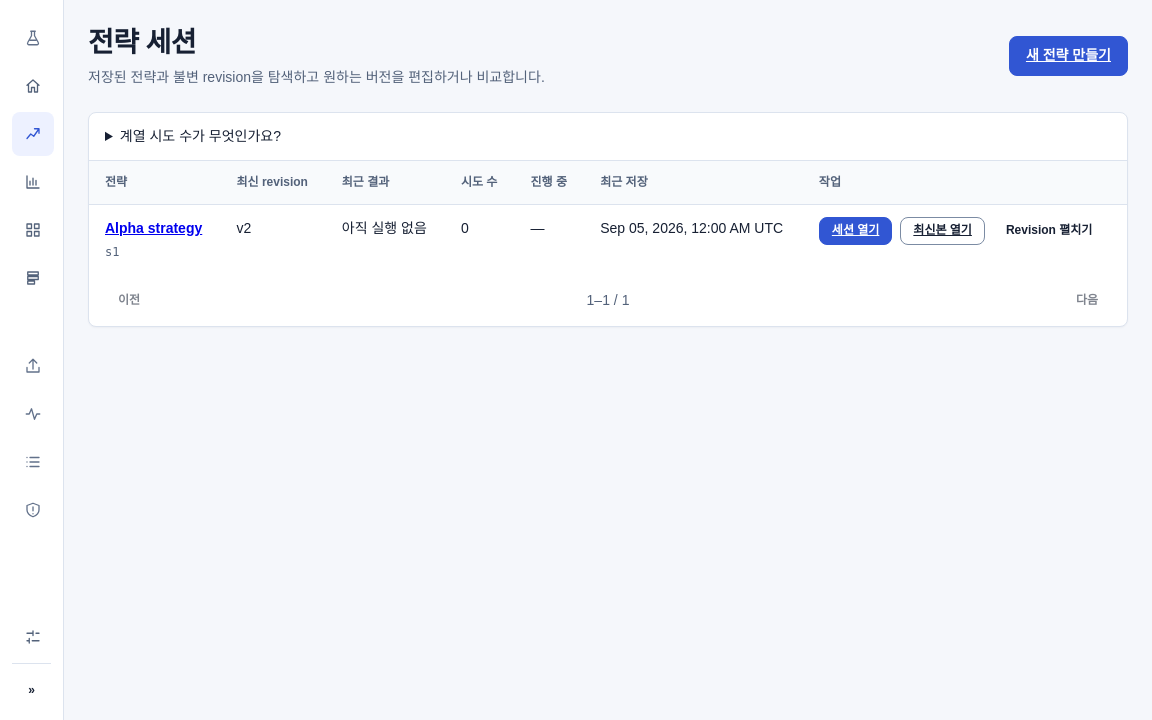
Test case: App Shell routes › browses saved strategies and opens immutable revision history
The image size is (1152, 720).
Expected: the heading "전략 세션" is shown, [88,27,196,58]
Expected: the text "Alpha strategy" is shown, [105,220,202,236]
Click the button with aria-label "Revision 펼치기: Alpha strategy (s1)" at (1049, 231), box [993,217,1105,245]
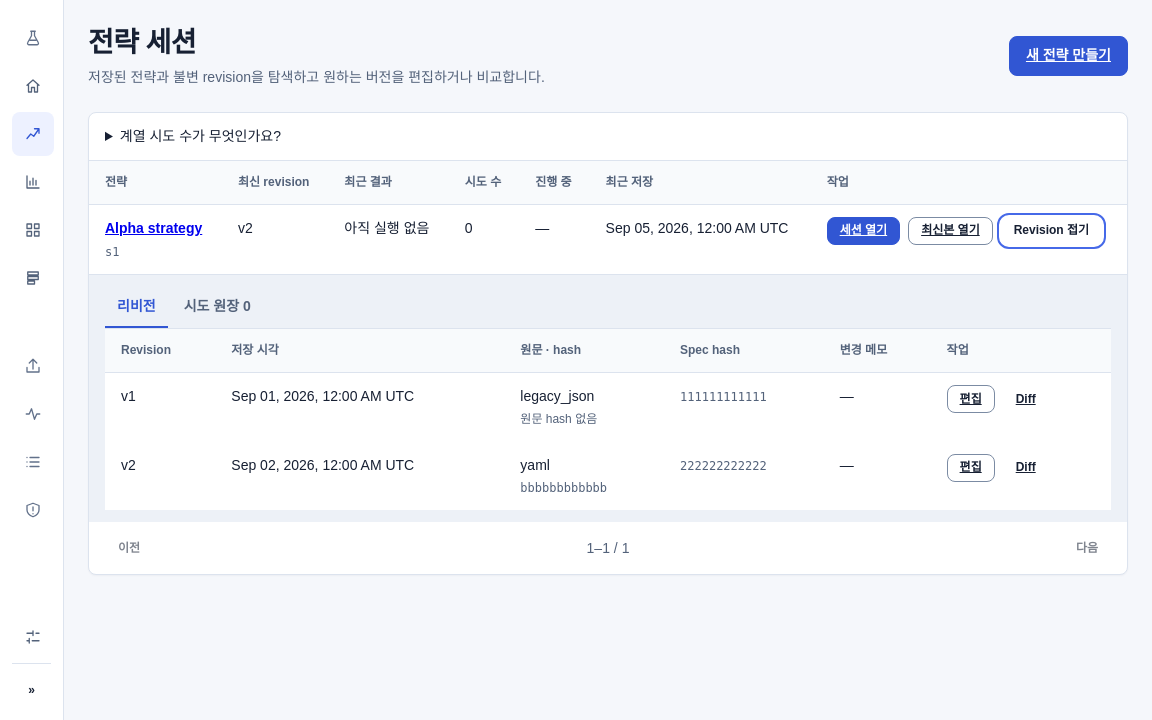
Result: the text "bbbbbbbbbbbb" is shown at [520,481,607,495]
Result: the text "원문 hash 없음" is shown at [520,412,597,426]
Result: the text "111111111111" is shown at [680,390,767,404]
